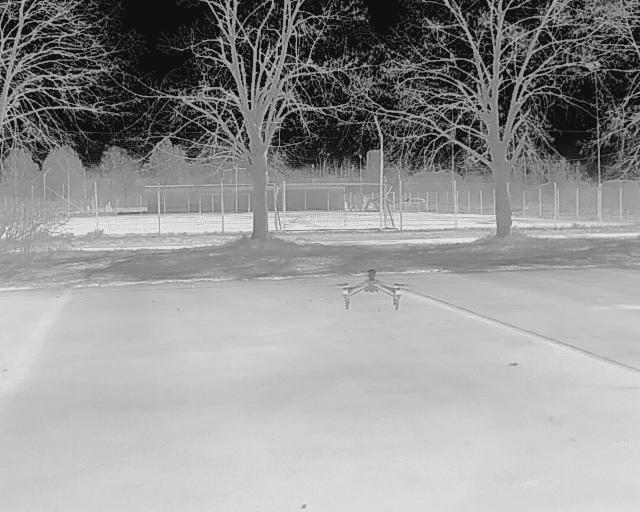drone: (327, 255, 412, 324)
